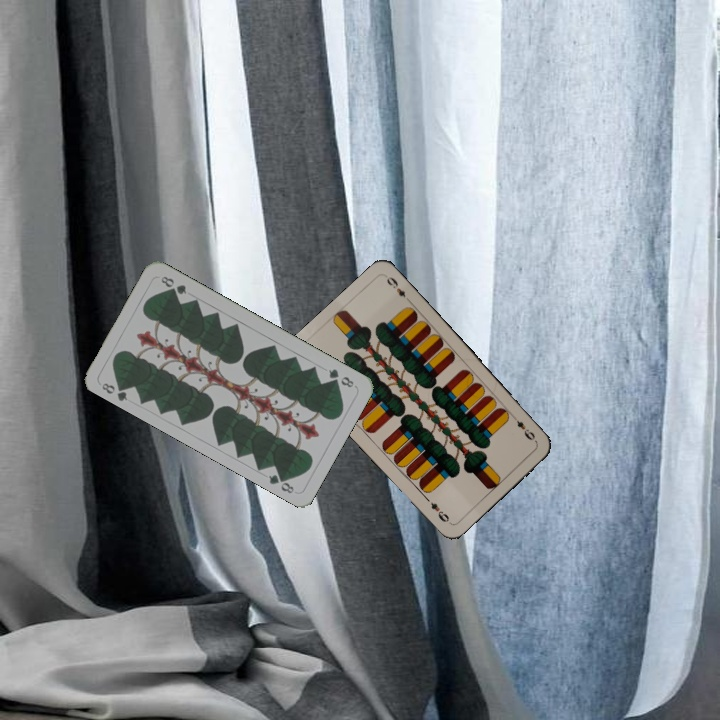E9: (509, 411, 538, 443)
G8: (98, 378, 130, 404), (324, 365, 357, 390)
